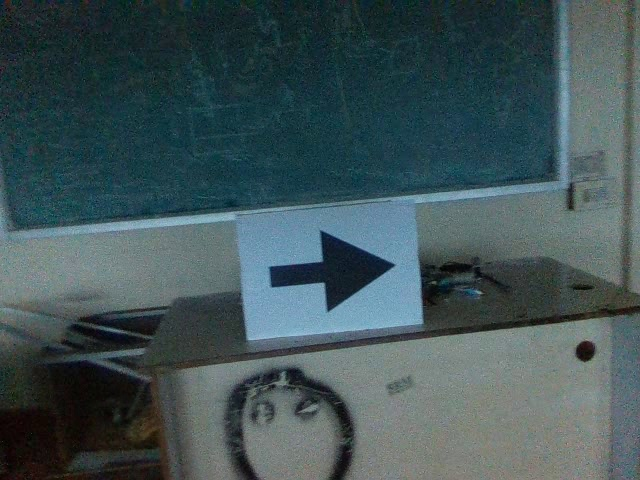Right: (264, 225, 397, 315)
